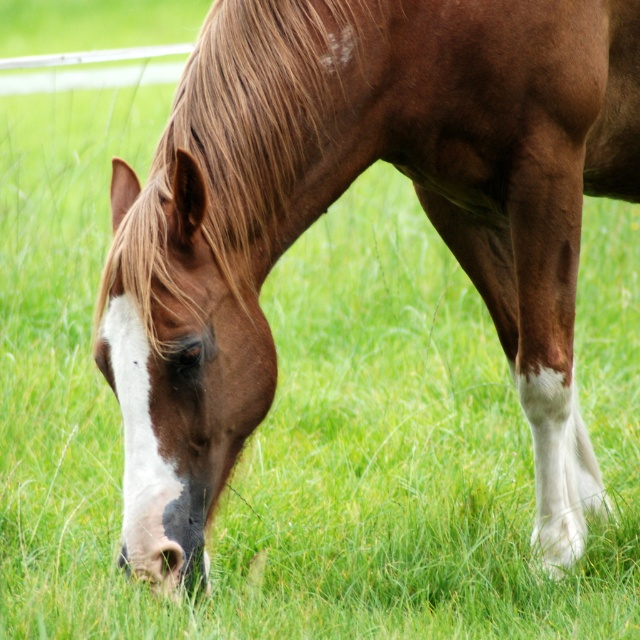Horse: (89, 0, 640, 631)
